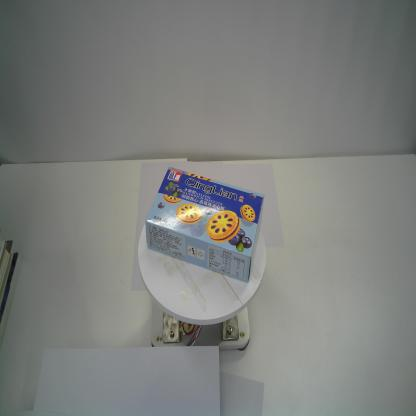Dessert: (144, 166, 265, 284)
